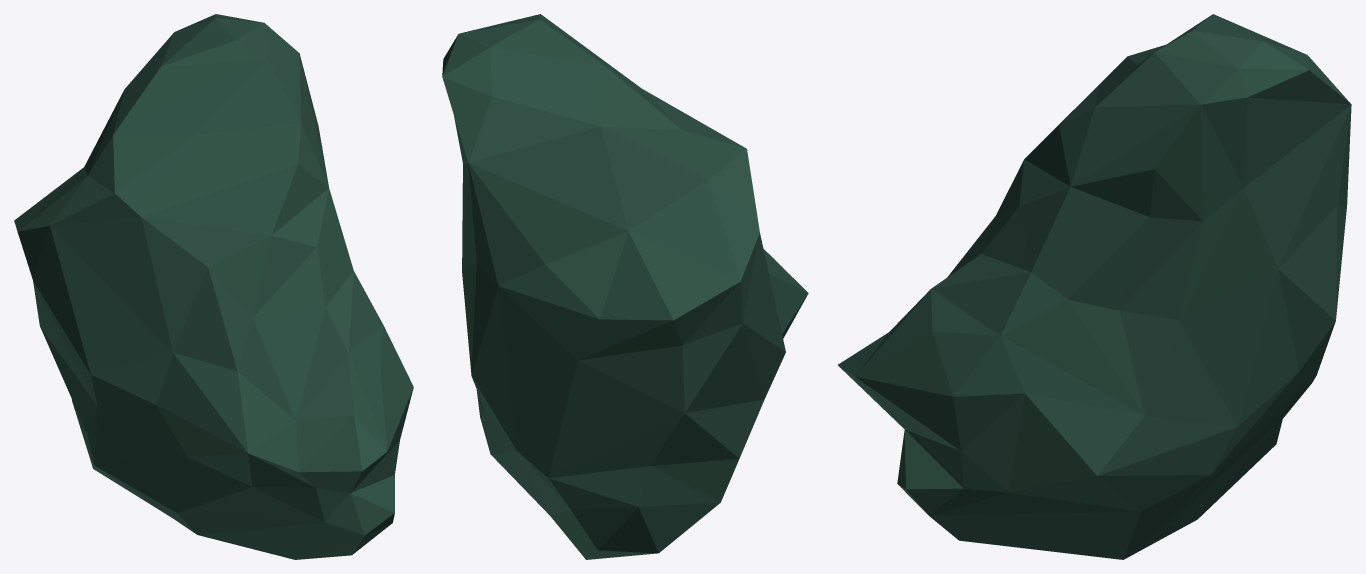
File: SM_large_rock_12.fbx
3 renders of one model, left to right at view 1: azimuth 30°, elevation 25°; view 2: azimuth 150°, elevation 25°; view 3: azimuth 270°, elevation 25°, orthographic. The views are drawn at different scales.
Visible parts, largest first — view 1: large_rock_12; view 2: large_rock_12; view 3: large_rock_12.
Part boxes in pixels (x1,y1,x2,y2): large_rock_12: (14, 14, 413, 559); large_rock_12: (442, 14, 808, 559); large_rock_12: (838, 14, 1351, 559).
Size of the model in its own units: 43.29 by 67.49 by 59.13.
